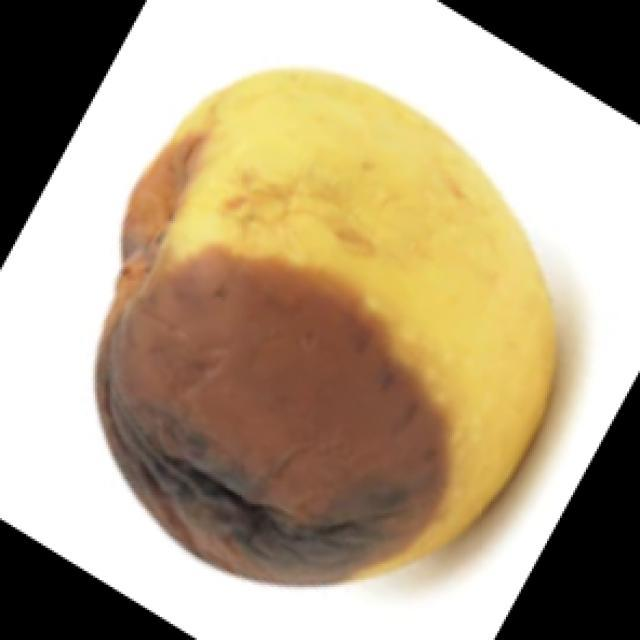Rotten: (106, 93, 572, 627)
